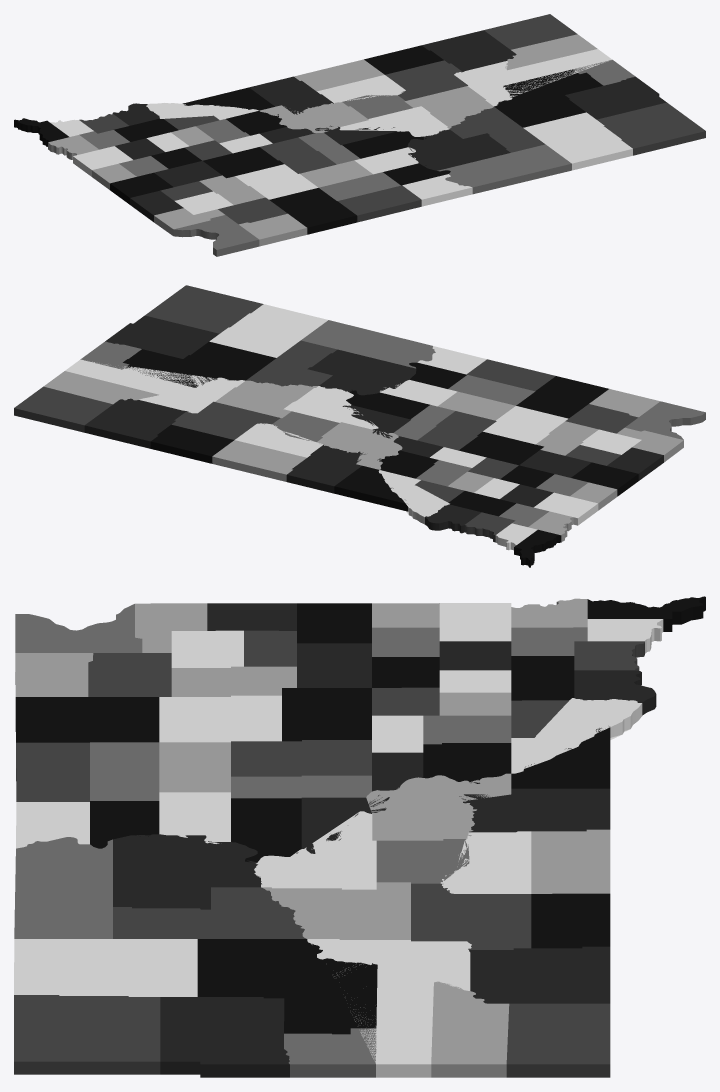
The model's file is South_Dakota_Counties_3D.fbx.
The picture shows the model from 3 angles, top to bottom: view 1: azimuth 30°, elevation 25°; view 2: azimuth 150°, elevation 25°; view 3: azimuth 270°, elevation 25°; orthographic projection. The views are drawn at different scales.
Parts seen in each view (by area): view 1: SD_Meade_County_3D, SD_Perkins_County_3D, SD_Corson_County_3D, SD_Pennington_County_3D, SD_Harding_County_3D, SD_Dewey_County_3D, SD_Butte_County_3D, SD_Brown_County_3D, SD_Oglala_Lakota_County_3D, SD_Ziebach_County_3D, SD_Jackson_County_3D, SD_Lyman_County_3D (+54 smaller); view 2: SD_Pennington_County_3D, SD_Meade_County_3D, SD_Perkins_County_3D, SD_Harding_County_3D, SD_Corson_County_3D, SD_Oglala_Lakota_County_3D, SD_Dewey_County_3D, SD_Butte_County_3D, SD_Fall_River_County_3D, SD_Ziebach_County_3D, SD_Tripp_County_3D, SD_Todd_County_3D (+54 smaller); view 3: SD_Meade_County_3D, SD_Harding_County_3D, SD_Pennington_County_3D, SD_Perkins_County_3D, SD_Butte_County_3D, SD_Corson_County_3D, SD_Dewey_County_3D, SD_Fall_River_County_3D, SD_Oglala_Lakota_County_3D, SD_Ziebach_County_3D, SD_Lyman_County_3D, SD_Jackson_County_3D (+54 smaller).
Part boxes in pixels (left/top/right/bottom): SD_Meade_County_3D: left=494, top=69, right=603, bottom=127; SD_Perkins_County_3D: left=523, top=112, right=632, bottom=170; SD_Corson_County_3D: left=437, top=144, right=571, bottom=194; SD_Pennington_County_3D: left=454, top=49, right=611, bottom=106; SD_Harding_County_3D: left=597, top=102, right=705, bottom=155; SD_Dewey_County_3D: left=407, top=129, right=510, bottom=170; SD_Butte_County_3D: left=565, top=76, right=666, bottom=119; SD_Brown_County_3D: left=269, top=188, right=357, bottom=234; SD_Oglala_Lakota_County_3D: left=422, top=30, right=516, bottom=71; SD_Ziebach_County_3D: left=450, top=107, right=545, bottom=152; SD_Jackson_County_3D: left=385, top=60, right=467, bottom=100; SD_Lyman_County_3D: left=259, top=102, right=368, bottom=132; SD_Pennington_County_3D: left=65, top=359, right=245, bottom=413; SD_Meade_County_3D: left=123, top=341, right=276, bottom=387; SD_Perkins_County_3D: left=209, top=304, right=327, bottom=357; SD_Harding_County_3D: left=145, top=285, right=263, bottom=333; SD_Corson_County_3D: left=301, top=320, right=435, bottom=368; SD_Oglala_Lakota_County_3D: left=84, top=398, right=186, bottom=448; SD_Dewey_County_3D: left=307, top=349, right=416, bottom=395; SD_Butte_County_3D: left=105, top=315, right=219, bottom=358; SD_Fall_River_County_3D: left=14, top=386, right=112, bottom=432; SD_Ziebach_County_3D: left=246, top=340, right=337, bottom=386; SD_Tripp_County_3D: left=286, top=444, right=365, bottom=493; SD_Todd_County_3D: left=212, top=440, right=306, bottom=481; SD_Meade_County_3D: left=197, top=939, right=377, bottom=1034; SD_Harding_County_3D: left=14, top=995, right=160, bottom=1074; SD_Pennington_County_3D: left=307, top=939, right=471, bottom=1077; SD_Perkins_County_3D: left=14, top=939, right=197, bottom=996; SD_Butte_County_3D: left=160, top=997, right=289, bottom=1077; SD_Corson_County_3D: left=14, top=837, right=112, bottom=938; SD_Dewey_County_3D: left=113, top=834, right=261, bottom=909; SD_Fall_River_County_3D: left=506, top=1003, right=610, bottom=1077; SD_Oglala_Lakota_County_3D: left=469, top=946, right=610, bottom=1003; SD_Ziebach_County_3D: left=113, top=887, right=306, bottom=938; SD_Lyman_County_3D: left=366, top=773, right=511, bottom=840; SD_Jackson_County_3D: left=411, top=883, right=531, bottom=949.
Bounding box in the file's own units: 768 × 10 × 480.
